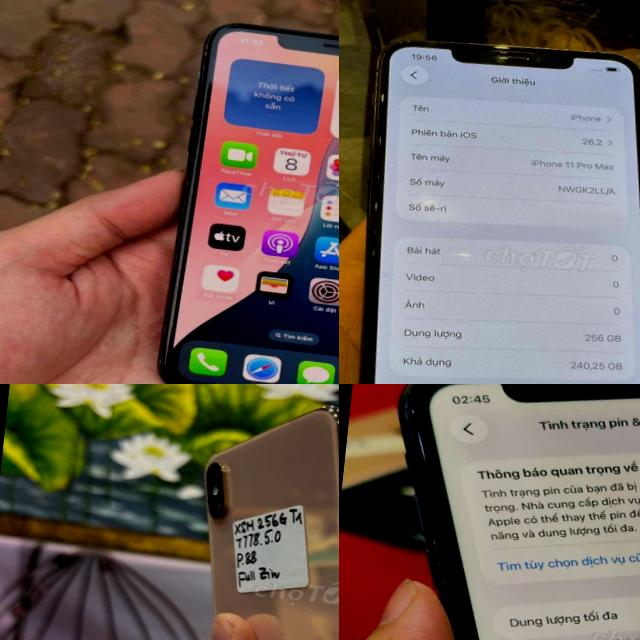gen_11: (358, 41, 640, 384), (339, 384, 640, 640), (150, 8, 339, 384)
gen_x_xs: (129, 384, 339, 640)
